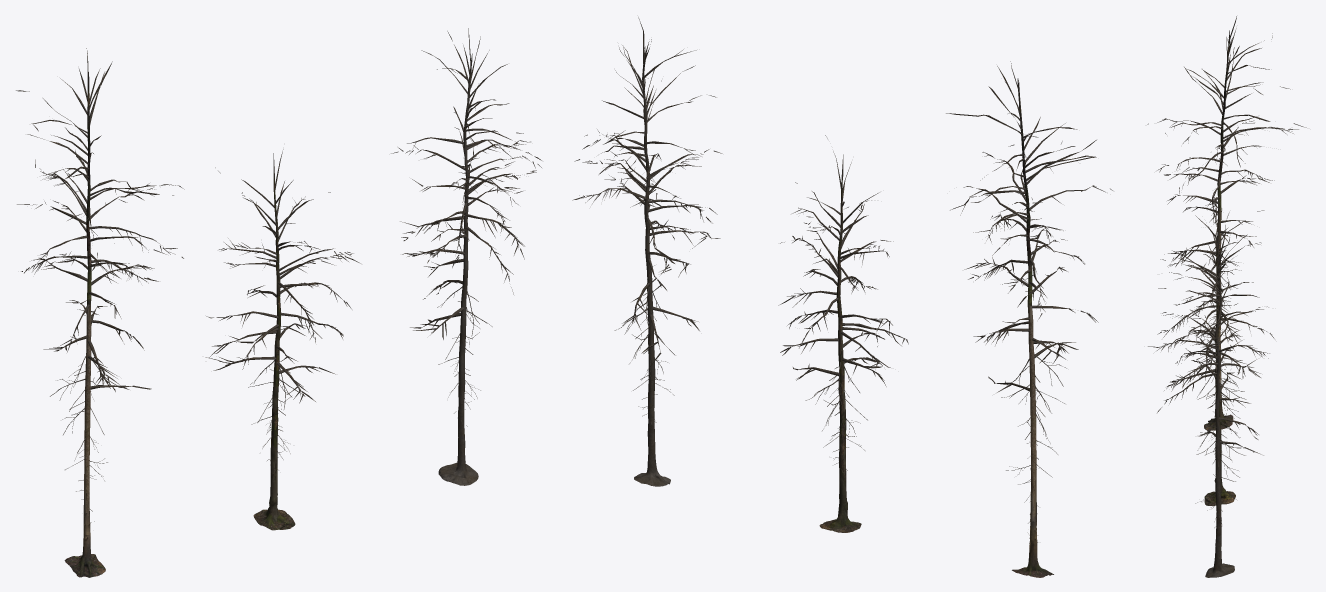
Rendered from glb_t3_pine.c0dde964.glb.
3 views of the same model, side by side, from view 1: azimuth 30°, elevation 25°; view 2: azimuth 150°, elevation 25°; view 3: azimuth 270°, elevation 25° (orthographic). The views are drawn at different scales.
Parts seen in each view (by area): view 1: pine_tree_01_a_LOD0, pine_tree_01_c_LOD0, pine_tree_01_b_LOD0; view 2: pine_tree_01_a_LOD0, pine_tree_01_c_LOD0, pine_tree_01_b_LOD0; view 3: pine_tree_01_c_LOD0, pine_tree_01_a_LOD0, pine_tree_01_b_LOD0.
Boxes of the visible parts, x1=… form: pine_tree_01_a_LOD0: x1=16, y1=48, x2=184, y2=577; pine_tree_01_c_LOD0: x1=391, y1=28, x2=541, y2=485; pine_tree_01_b_LOD0: x1=205, y1=149, x2=360, y2=530; pine_tree_01_a_LOD0: x1=946, y1=61, x2=1112, y2=577; pine_tree_01_c_LOD0: x1=572, y1=17, x2=722, y2=486; pine_tree_01_b_LOD0: x1=778, y1=135, x2=908, y2=532; pine_tree_01_c_LOD0: x1=1148, y1=211, x2=1269, y2=577; pine_tree_01_a_LOD0: x1=1147, y1=16, x2=1306, y2=430; pine_tree_01_b_LOD0: x1=1157, y1=194, x2=1274, y2=505.
Size of the model in its own units: 18.89 by 18.31 by 6.67.
Materials: 5 (5 with a texture image).
